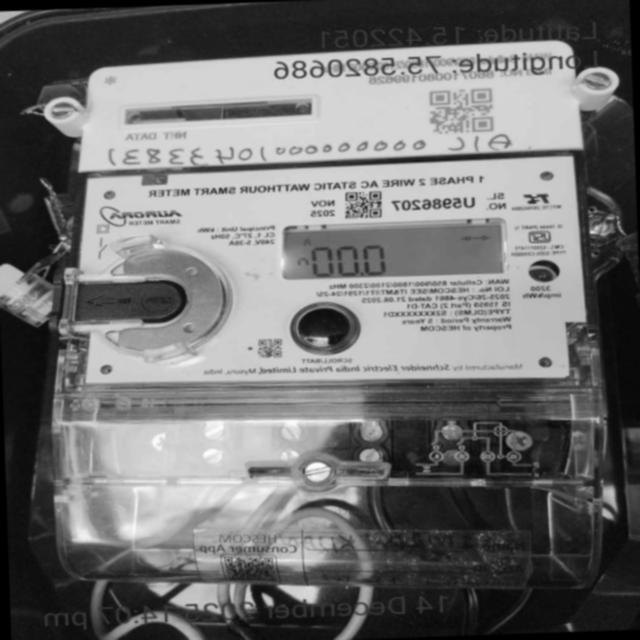meter: (58, 39, 592, 390)
